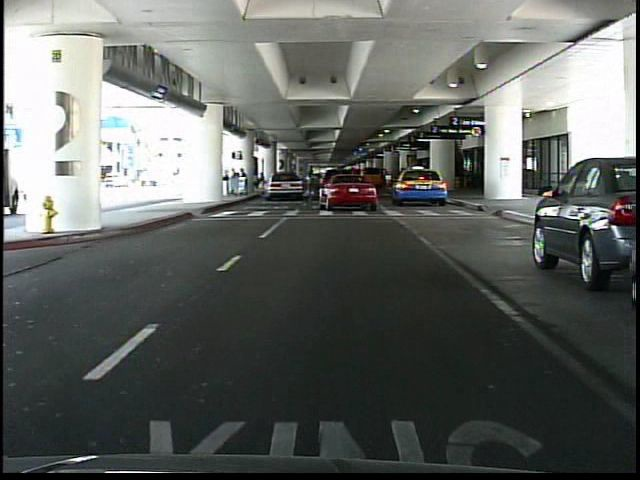person: (305, 165, 318, 199)
